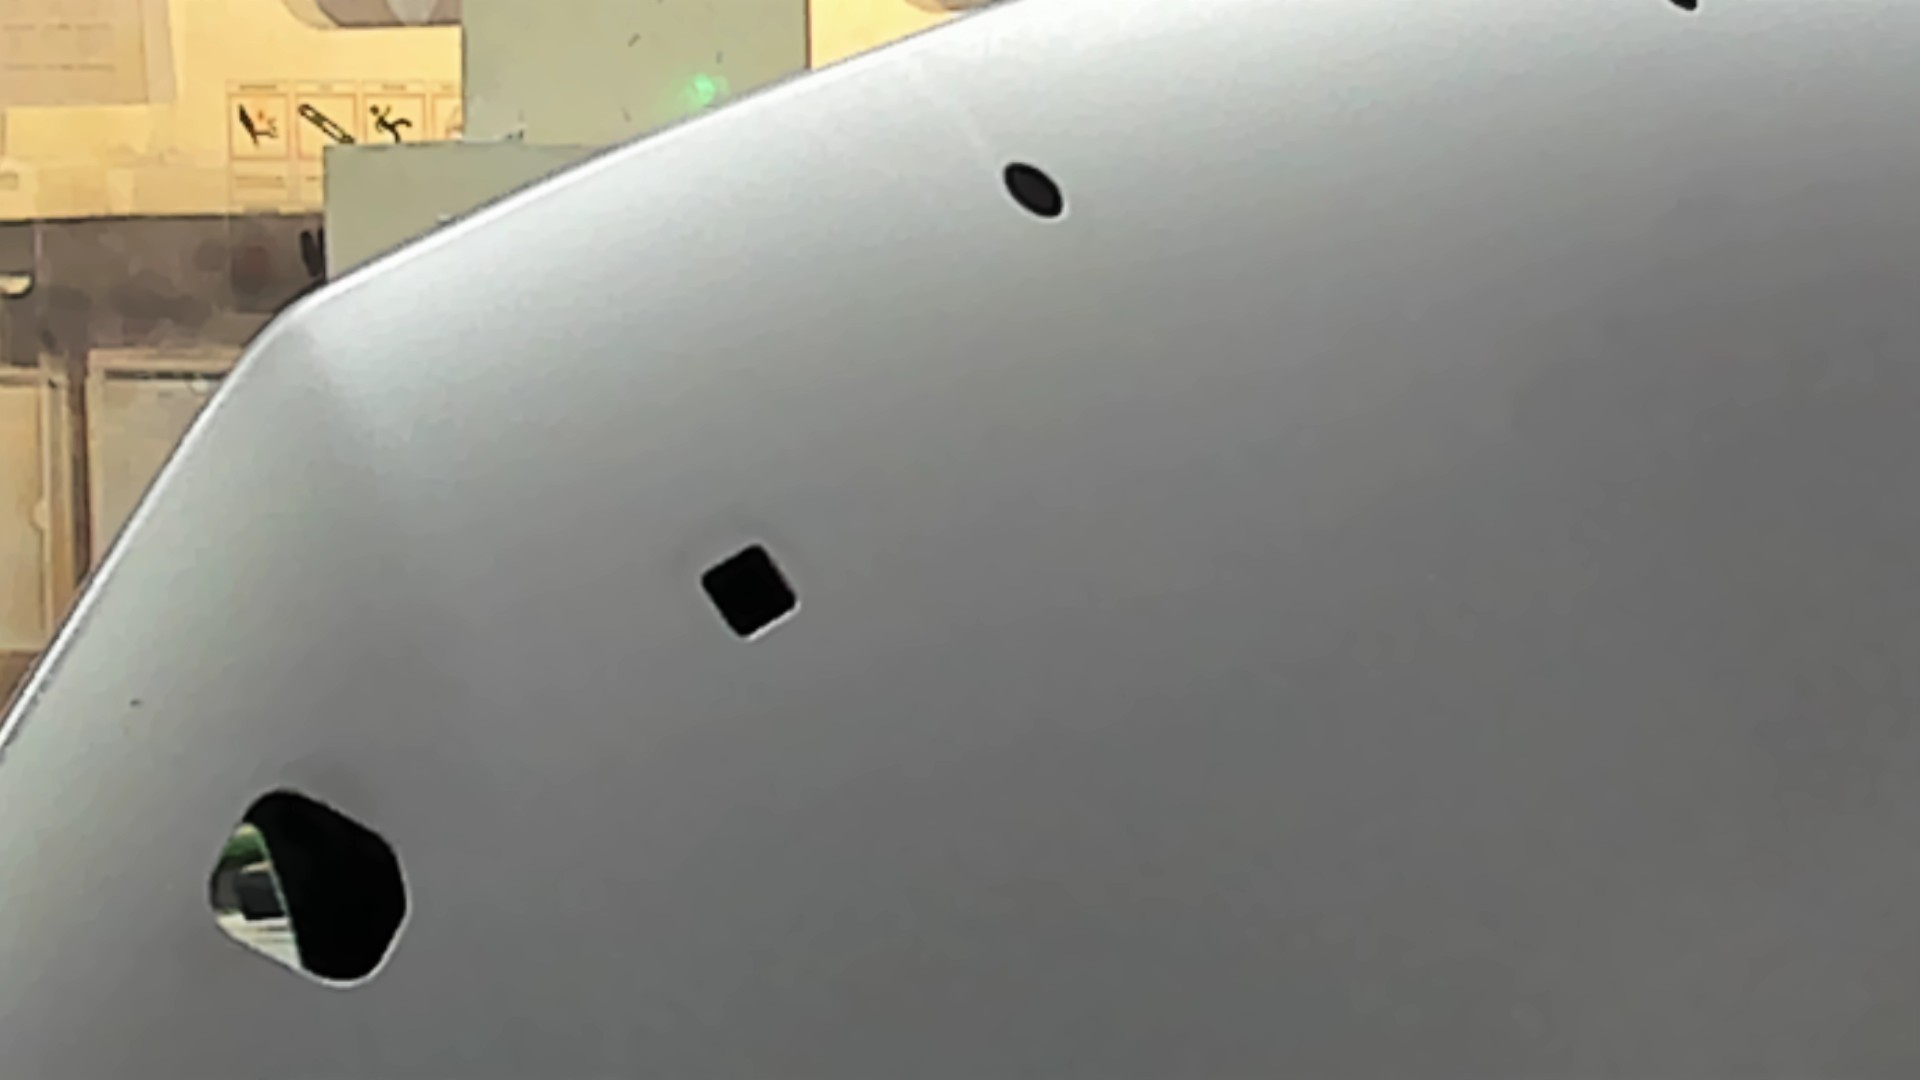chico: (989, 146, 1087, 237)
grande: (173, 770, 439, 1022)
mediano: (679, 529, 823, 654)
